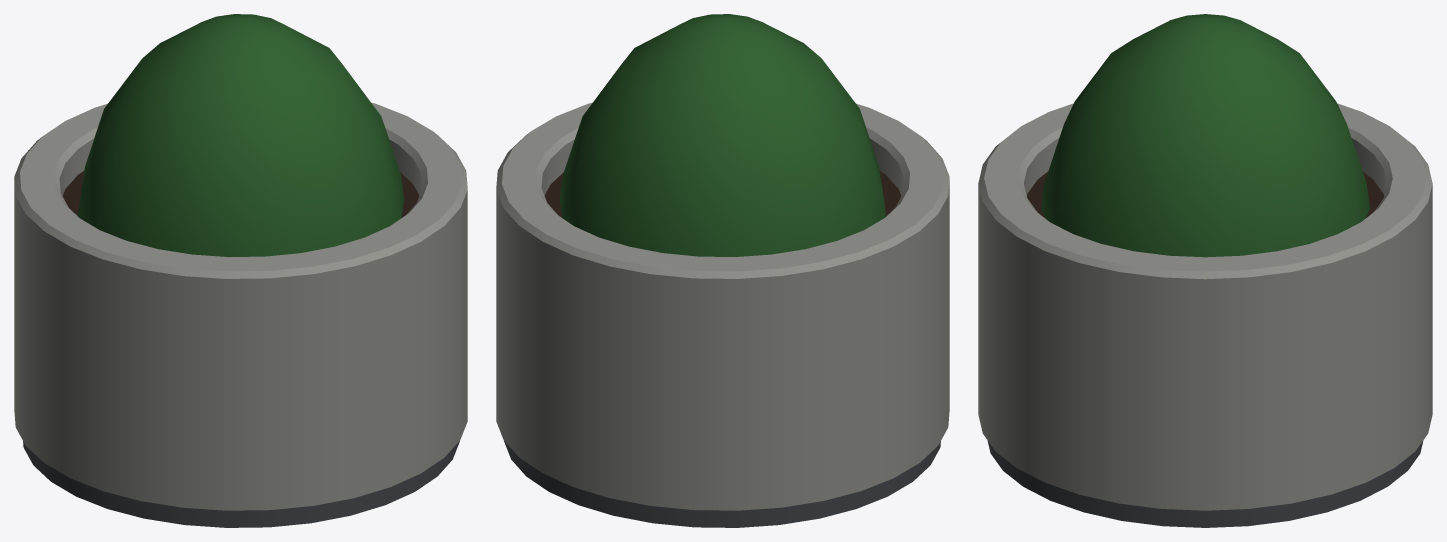
File: gteki_street_planter_round_d800_h500.glb
The picture shows the model from 3 angles, left to right: view 1: azimuth 30°, elevation 25°; view 2: azimuth 150°, elevation 25°; view 3: azimuth 270°, elevation 25°; orthographic projection.
Visible parts, largest first — view 1: VIS_body, VIS_plants; view 2: VIS_body, VIS_plants; view 3: VIS_body, VIS_plants.
Boxes of the visible parts, box(x1,y1,x2,y2) form: VIS_body: box(14, 102, 467, 527); VIS_plants: box(78, 14, 404, 256); VIS_body: box(496, 102, 949, 527); VIS_plants: box(559, 14, 885, 256); VIS_body: box(978, 103, 1432, 527); VIS_plants: box(1041, 14, 1369, 257).
Size of what is drawn, in the model's own units: 0.8 by 0.8073 by 0.8.
